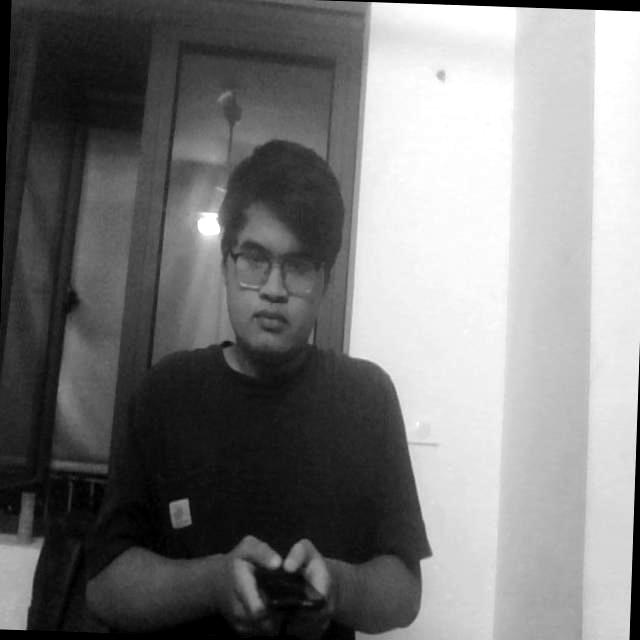phone: (242, 535, 342, 633)
